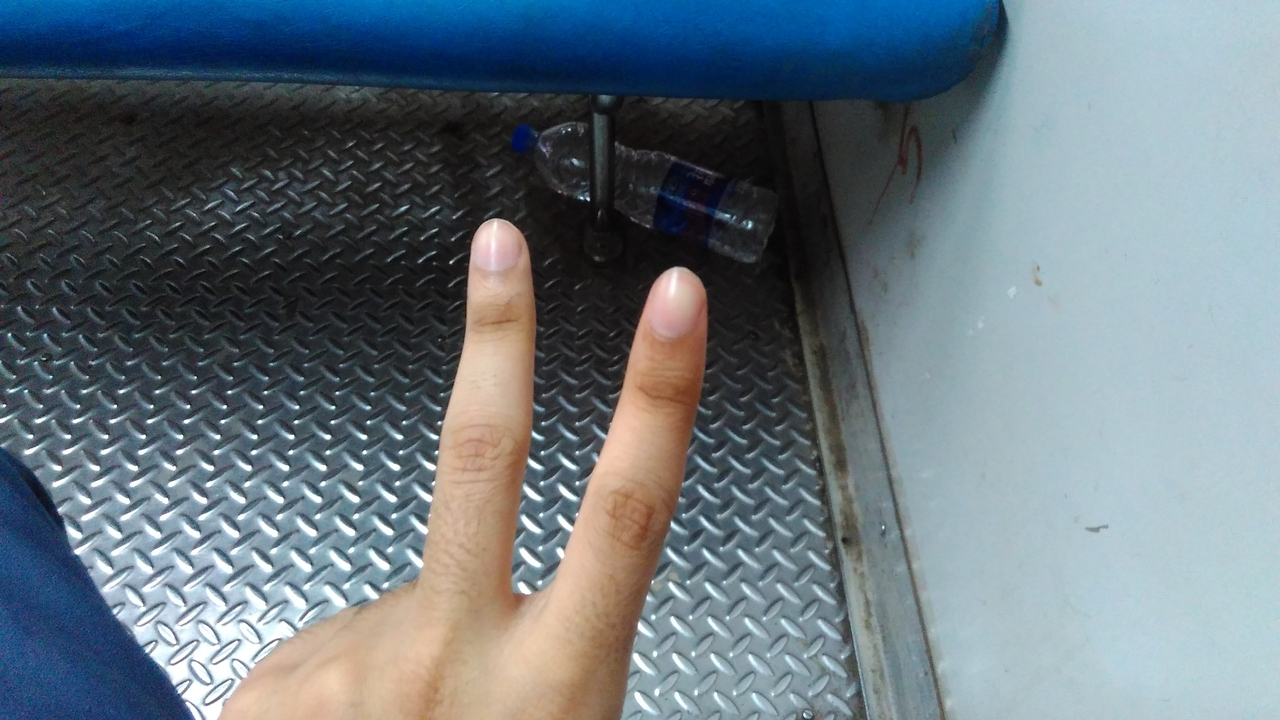fingertip: (638, 260, 710, 340), (462, 212, 530, 288)
